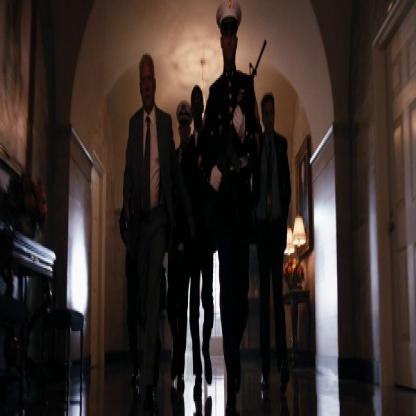Guns: (212, 35, 268, 196)
